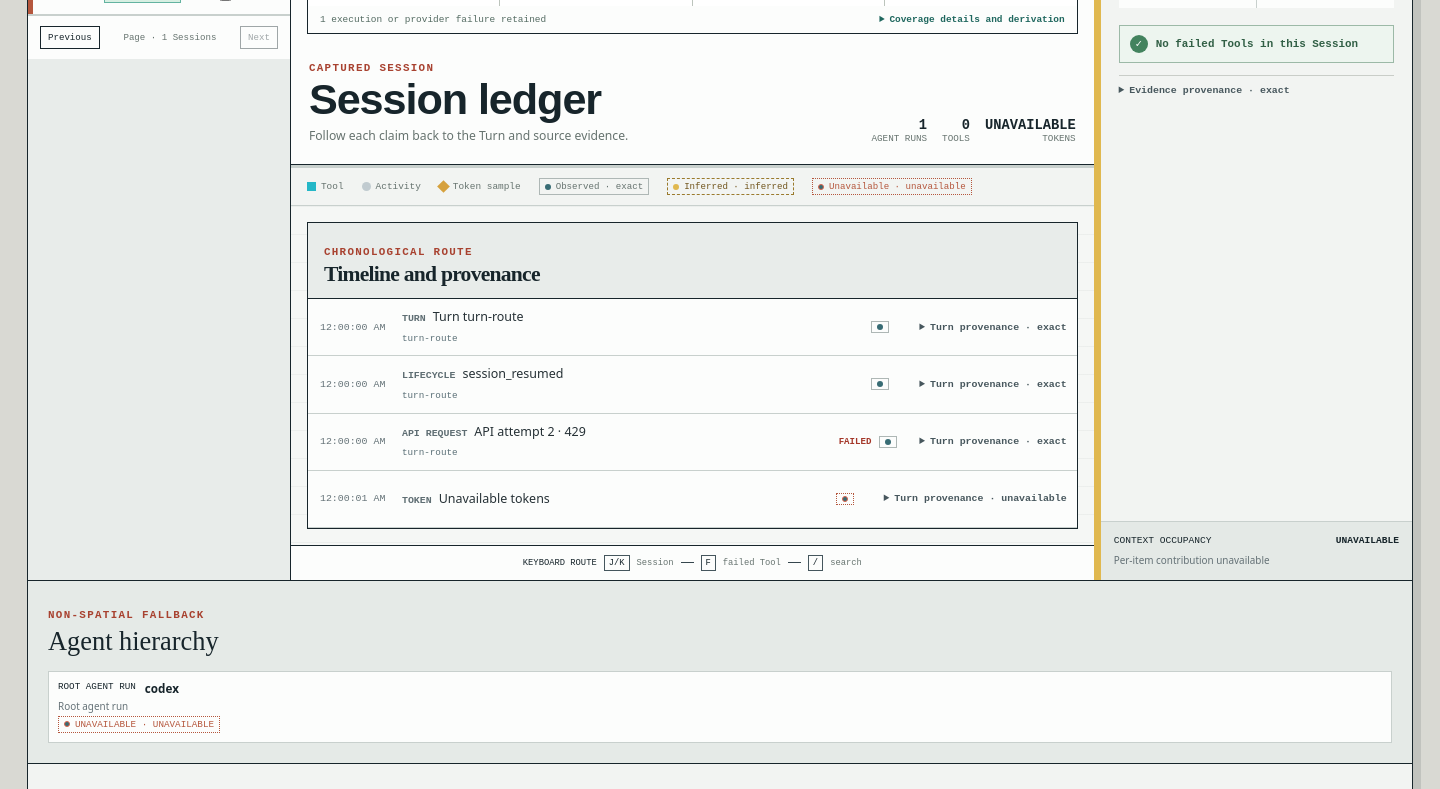
Test: lifecycle evidence and provider API attempts are navigable into exact details
(page scrolled)
Click the button "12:00:00 AM Lifecycle session_resumed turn-route": {"x": 353, "y": 384} [308,356,910,413]
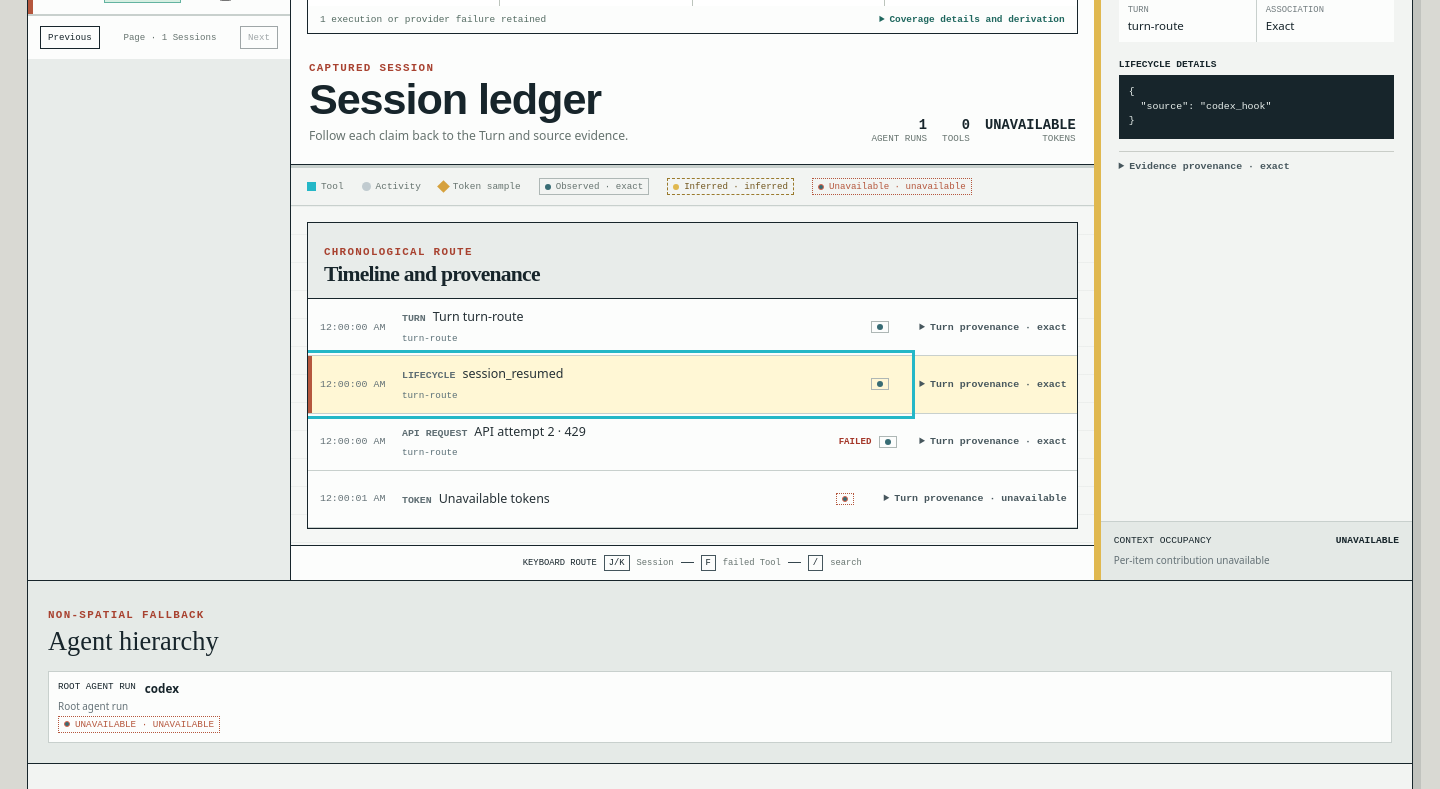
Now the text "{ \"source\": \"codex_hook\" }" is shown, box [1119,75,1394,139]
Click the button "API request API attempt 2": {"x": 353, "y": 442} [308,414,910,470]
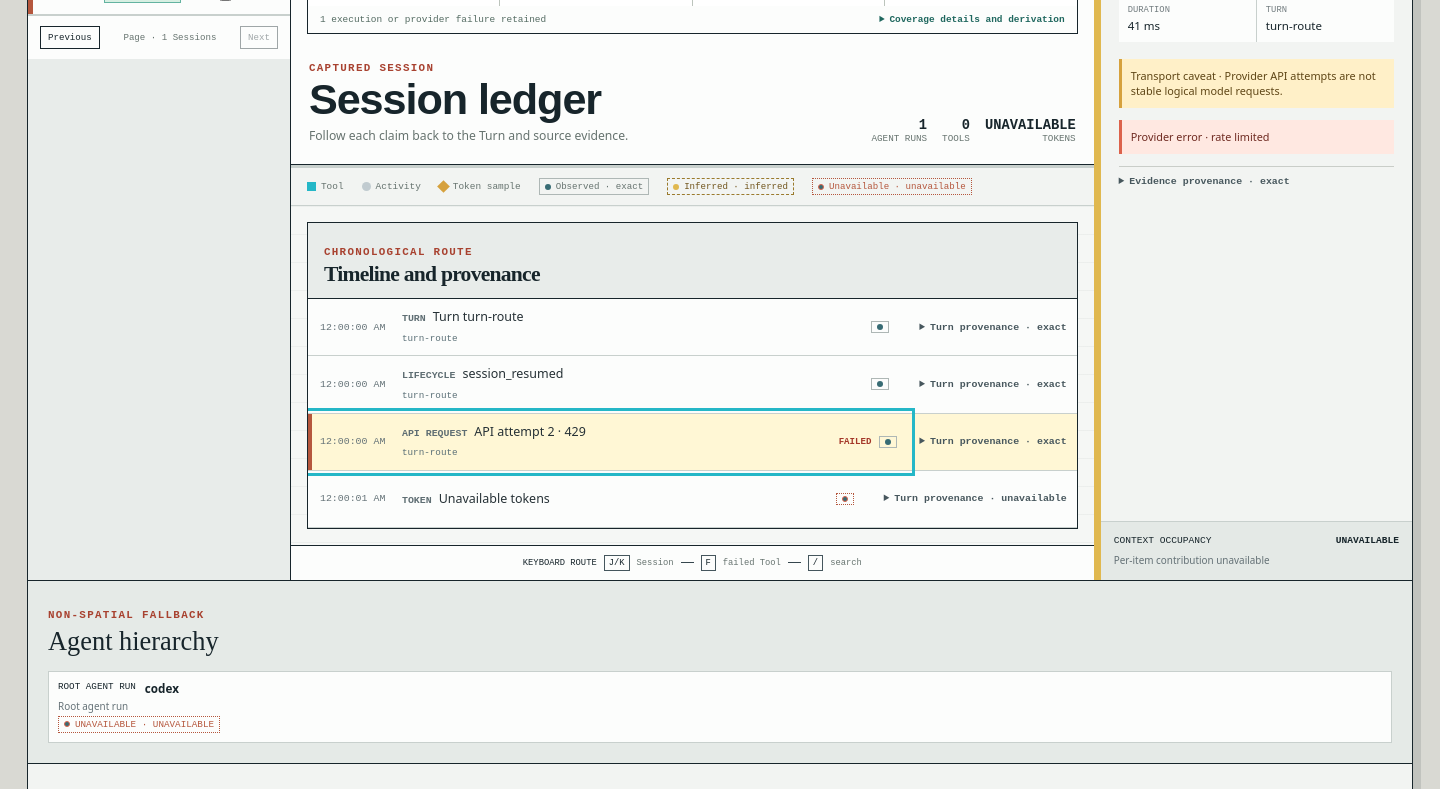
Now the text "41 ms" is shown, box [1128,18,1160,33]
Now the text "Provider error · rate limited" is shown, box [1119,120,1394,154]
Click the heading "Evidence provenance · exact": {"x": 1209, "y": 182} [1129,176,1290,187]
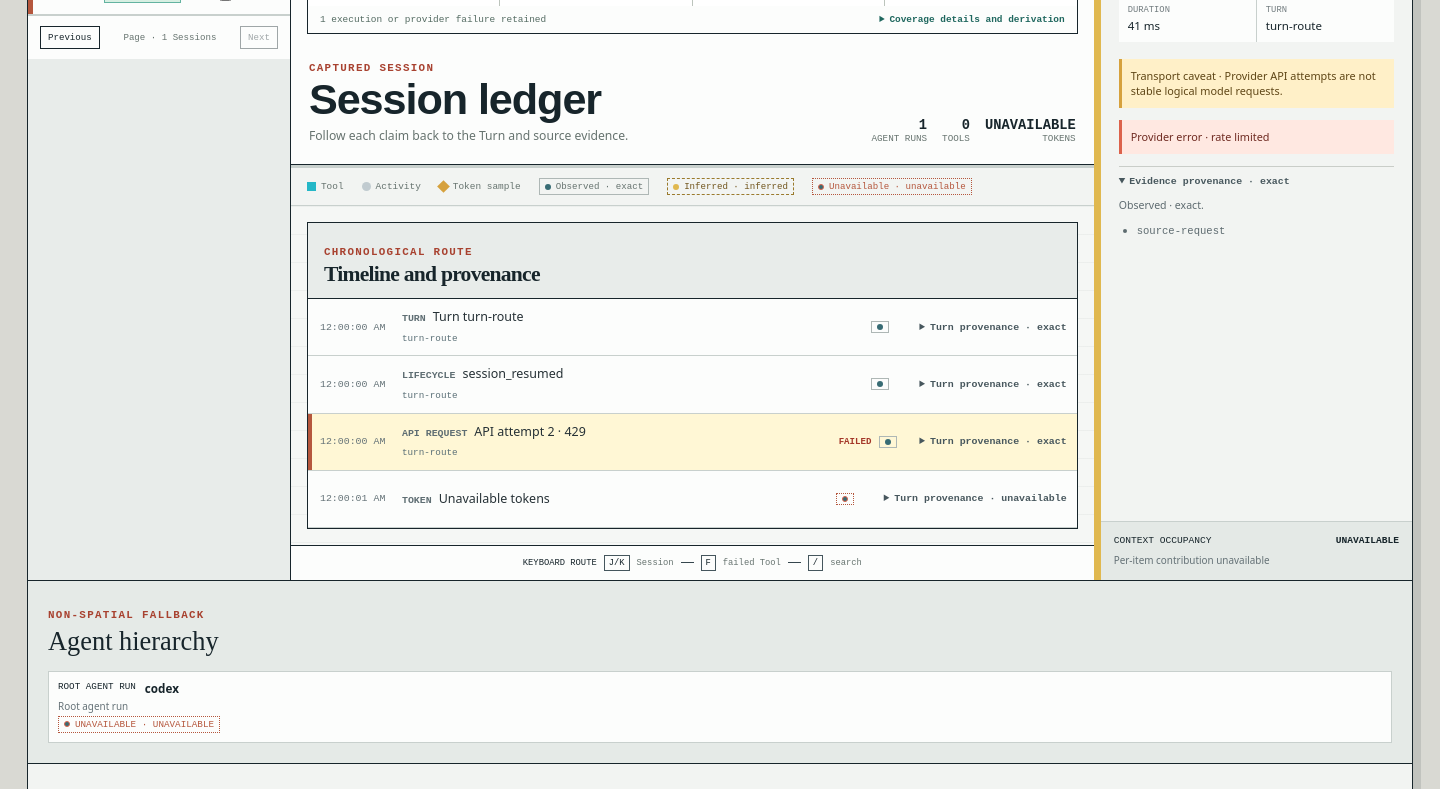
Now the text "source-request" is shown, box [1137,225,1225,237]
